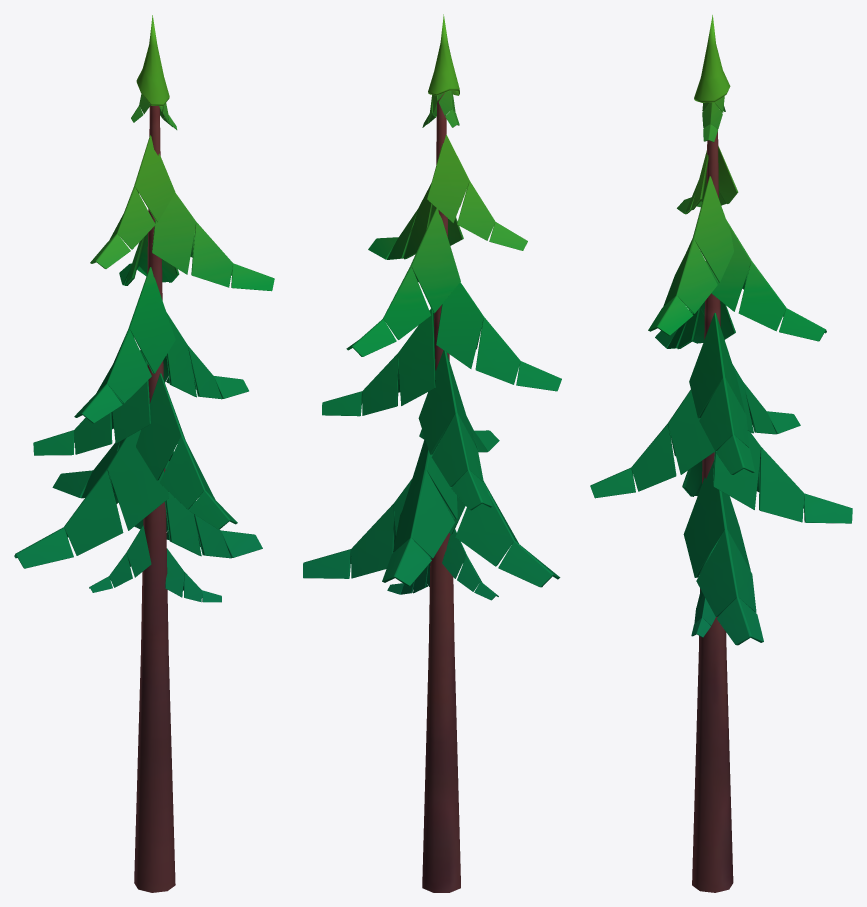
The model's file is arboles15.fbx.
The picture shows the model from 3 angles, left to right: view 1: azimuth 30°, elevation 25°; view 2: azimuth 150°, elevation 25°; view 3: azimuth 270°, elevation 25°; orthographic projection.
Visible parts, largest first — view 1: Tree.025_Base_Material_0.002; view 2: Tree.025_Base_Material_0.002; view 3: Tree.025_Base_Material_0.002.
Boxes of the visible parts, left/top/right/bottom form: Tree.025_Base_Material_0.002: left=14, top=15, right=274, bottom=892; Tree.025_Base_Material_0.002: left=303, top=14, right=561, bottom=892; Tree.025_Base_Material_0.002: left=590, top=15, right=852, bottom=892.
Bounding box in the file's own units: 254 × 863 × 236.
